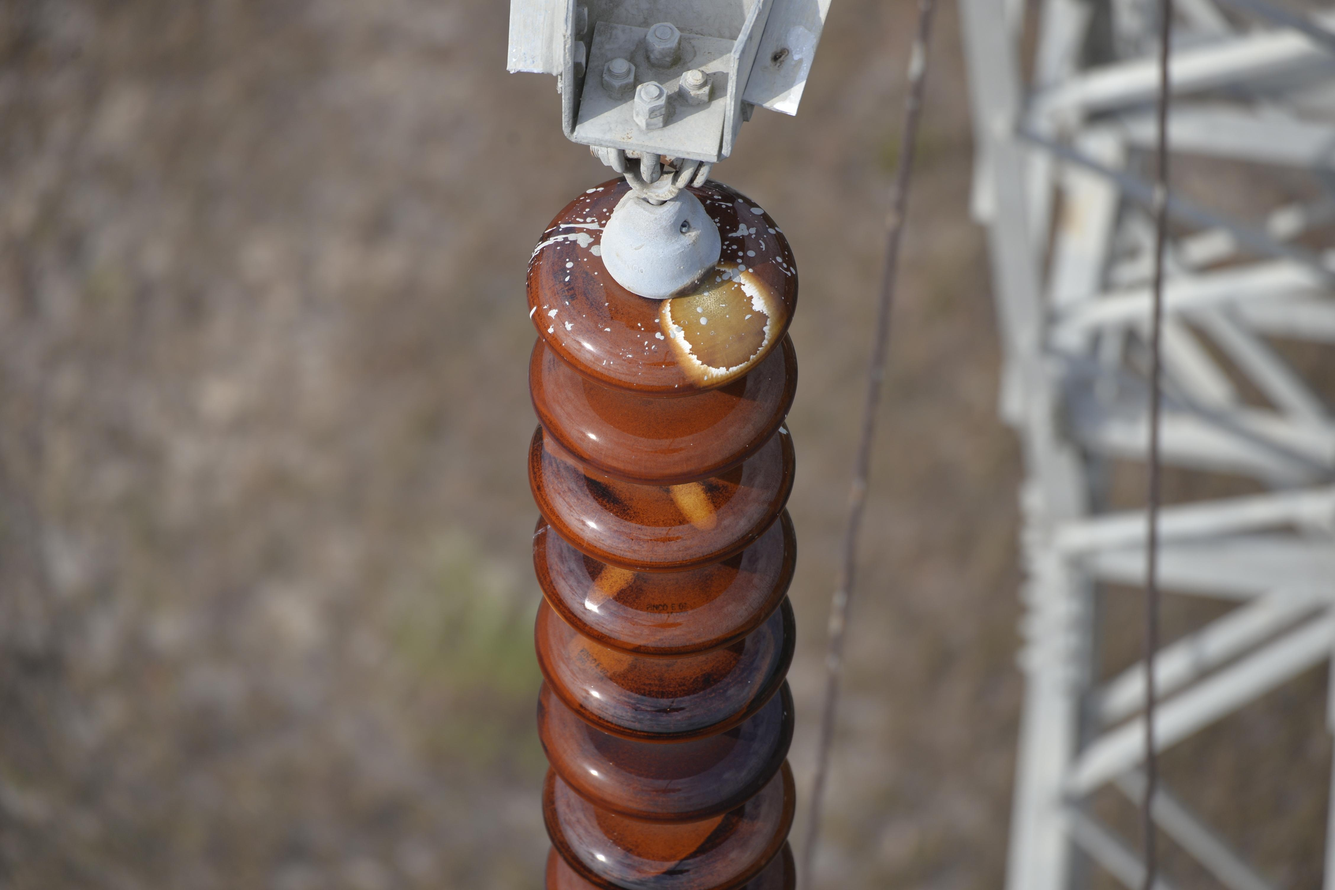Flashover: (657, 253, 783, 386), (578, 550, 641, 610), (668, 470, 724, 537), (567, 627, 637, 680)
insulator: (527, 173, 802, 890)
